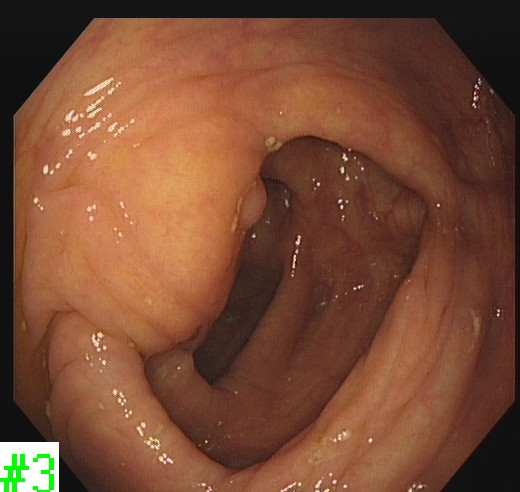adenoma: (234, 173, 269, 234)
